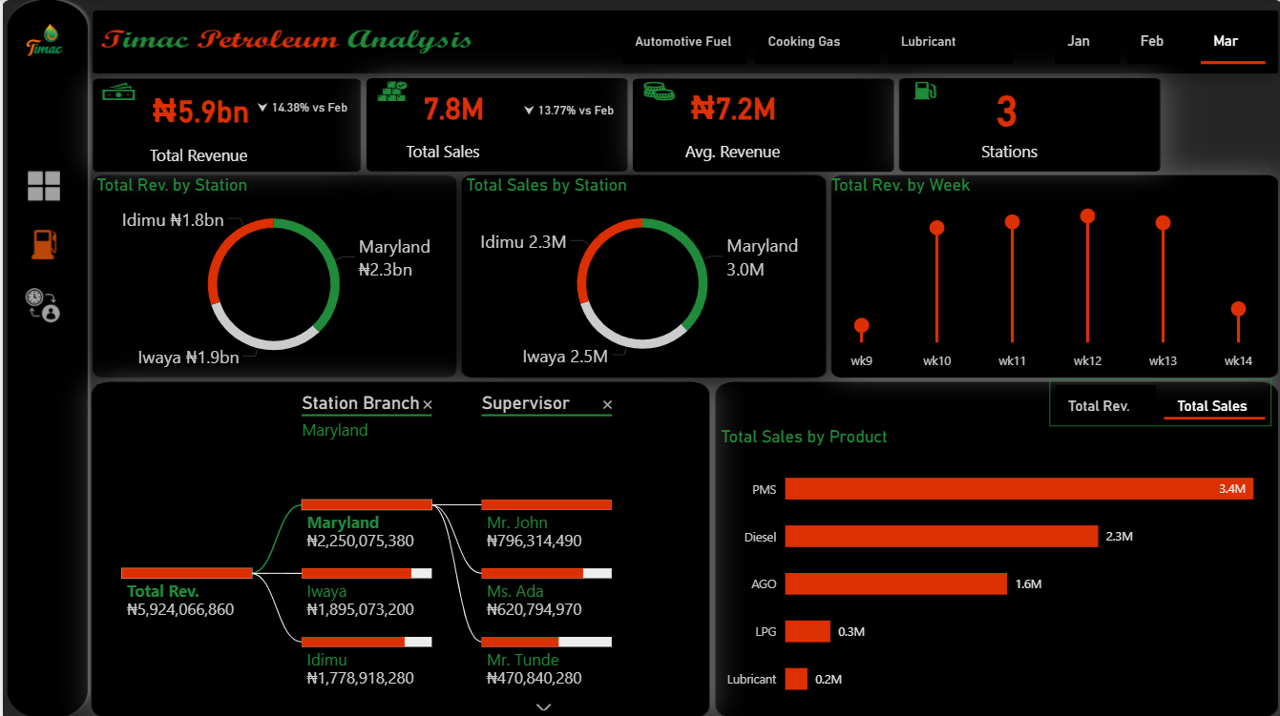

This screenshot's page, from the dashboard's own definition file:
{"tool":"powerbi","page":{"name":"Products & Stations","canvas":[1280,720],"ordinal":1},"visuals":[{"type":"actionButton","title":"window2","box":[16.2,165.9,50.4,40.2],"z":0,"group":"g2"},{"type":"clusteredBarChart","fields":{"Y":["Calculations.Total Rev."],"Category":["Timac_Filling_Station.Product"]},"box":[713.3,444,567.2,272.2],"z":0},{"type":"actionButton","title":"station1","box":[16.3,226.1,50.4,37.4],"z":1000,"group":"g1"},{"type":"advancedSlicerVisual","fields":{"Values":["Rev & Qty Parameter.Rev & Qty Parameter"]},"box":[1047.1,379.6,222,64.5],"z":1000},{"type":"actionButton","title":"shift2","box":[14.6,282.7,50.4,44.3],"z":2000,"group":"g2"},{"type":"decompositionTreeVisual","fields":{"ExplainBy":["Timac_Filling_Station.Station_Name","Timac_Filling_Station.Supervisor"],"Analyze":["Calculations.Total Rev."]},"box":[88.2,379.6,612.7,337.1],"z":2000},{"type":"donutChart","title":"Total Rev. by Station","fields":{"Category":["Timac_Filling_Station.Station_Name"],"Y":["Calculations.Total Rev."]},"box":[88.2,174.8,363.8,200],"z":3000},{"type":"donutChart","title":"Total Sales by Station","fields":{"Category":["Timac_Filling_Station.Station_Name"],"Y":["Calculations.Total Qty"]},"box":[458.3,174.8,362.3,198.5],"z":4000},{"type":"lineChart","title":"Total Rev. by Week ","fields":{"Category":["Calendar.Week Format"],"Y":["Calculations.Total Rev."]},"box":[823.8,174.8,447.3,204.8],"z":5000},{"type":"card","fields":{"Values":["Calculations.Total Rev."]},"box":[124.4,76.7,146.5,64.6],"z":6000},{"type":"card","fields":{"Values":["Calculations.RevMoM %"]},"box":[241,90.9,116.6,37.8],"z":7000},{"type":"textbox","box":[141.8,138.6,118.1,36.2],"z":8000},{"type":"card","fields":{"Values":["Calculations.Total Qty"]},"box":[395.3,77.2,110.3,58.3],"z":9000},{"type":"card","fields":{"Values":["Calculations.SalesMoM %"]},"box":[505.6,92.9,119.7,37.8],"z":10000},{"type":"textbox","box":[398.5,135,118.1,33.1],"z":11000},{"type":"card","fields":{"Values":["Calculations.Avg. Revenue"]},"box":[666.3,77.2,129.2,58.3],"z":12000},{"type":"textbox","box":[677.3,135,119.7,33.1],"z":13000},{"type":"card","fields":{"Values":["Calculations.Total Stations"]},"box":[952.9,77.2,104,58.3],"z":14000},{"type":"textbox","box":[973.4,135,83.5,33.1],"z":15000},{"type":"advancedSlicerVisual","fields":{"Values":["Calendar.Month Short"]},"box":[1047.4,12.6,222.1,56.7],"z":16000},{"type":"advancedSlicerVisual","fields":{"Values":["Timac_Filling_Station.Product_Category"]},"box":[614.3,12.6,401.6,56.7],"z":17000},{"type":"group","id":"g1","title":"Group 1","box":[16.3,165.9,52,161],"z":18000},{"type":"group","id":"g2","title":"Group 2","box":[14.6,165.9,52,161],"z":19000},{"type":"image","box":[4.3,5.7,81.6,74.5],"z":20000}]}

Visuals, with their boxes on the page's 1280x720 design canvas (x1, y1, x2, y2). These are canvas units, not pixel positions in the 1280x716 screenshot, which may show the page scaled, cropped or inside an application window:
"window2" actionButton: {"left": 16, "top": 166, "right": 67, "bottom": 206}
clusteredBarChart - Calculations.Total Rev. x Timac_Filling_Station.Product: {"left": 713, "top": 444, "right": 1280, "bottom": 716}
"station1" actionButton: {"left": 16, "top": 226, "right": 67, "bottom": 264}
advancedSlicerVisual - Rev & Qty Parameter.Rev & Qty Parameter: {"left": 1047, "top": 380, "right": 1269, "bottom": 444}
"shift2" actionButton: {"left": 15, "top": 283, "right": 65, "bottom": 327}
decompositionTreeVisual - Timac_Filling_Station.Station_Name x Timac_Filling_Station.Supervisor: {"left": 88, "top": 380, "right": 701, "bottom": 717}
"Total Rev. by Station" donutChart: {"left": 88, "top": 175, "right": 452, "bottom": 375}
"Total Sales by Station" donutChart: {"left": 458, "top": 175, "right": 821, "bottom": 373}
"Total Rev. by Week " lineChart: {"left": 824, "top": 175, "right": 1271, "bottom": 380}
card - Calculations.Total Rev.: {"left": 124, "top": 77, "right": 271, "bottom": 141}
card - Calculations.RevMoM %: {"left": 241, "top": 91, "right": 358, "bottom": 129}
textbox: {"left": 142, "top": 139, "right": 260, "bottom": 175}
card - Calculations.Total Qty: {"left": 395, "top": 77, "right": 506, "bottom": 136}
card - Calculations.SalesMoM %: {"left": 506, "top": 93, "right": 625, "bottom": 131}
textbox: {"left": 398, "top": 135, "right": 517, "bottom": 168}
card - Calculations.Avg. Revenue: {"left": 666, "top": 77, "right": 796, "bottom": 136}
textbox: {"left": 677, "top": 135, "right": 797, "bottom": 168}
card - Calculations.Total Stations: {"left": 953, "top": 77, "right": 1057, "bottom": 136}
textbox: {"left": 973, "top": 135, "right": 1057, "bottom": 168}
advancedSlicerVisual - Calendar.Month Short: {"left": 1047, "top": 13, "right": 1270, "bottom": 69}
advancedSlicerVisual - Timac_Filling_Station.Product_Category: {"left": 614, "top": 13, "right": 1016, "bottom": 69}
"Group 1" group: {"left": 16, "top": 166, "right": 68, "bottom": 327}
"Group 2" group: {"left": 15, "top": 166, "right": 67, "bottom": 327}
image: {"left": 4, "top": 6, "right": 86, "bottom": 80}
